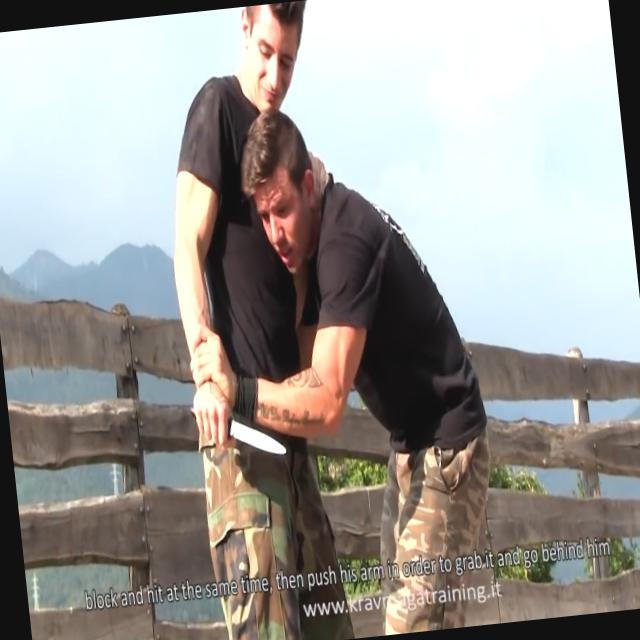knife: (182, 380, 290, 474)
